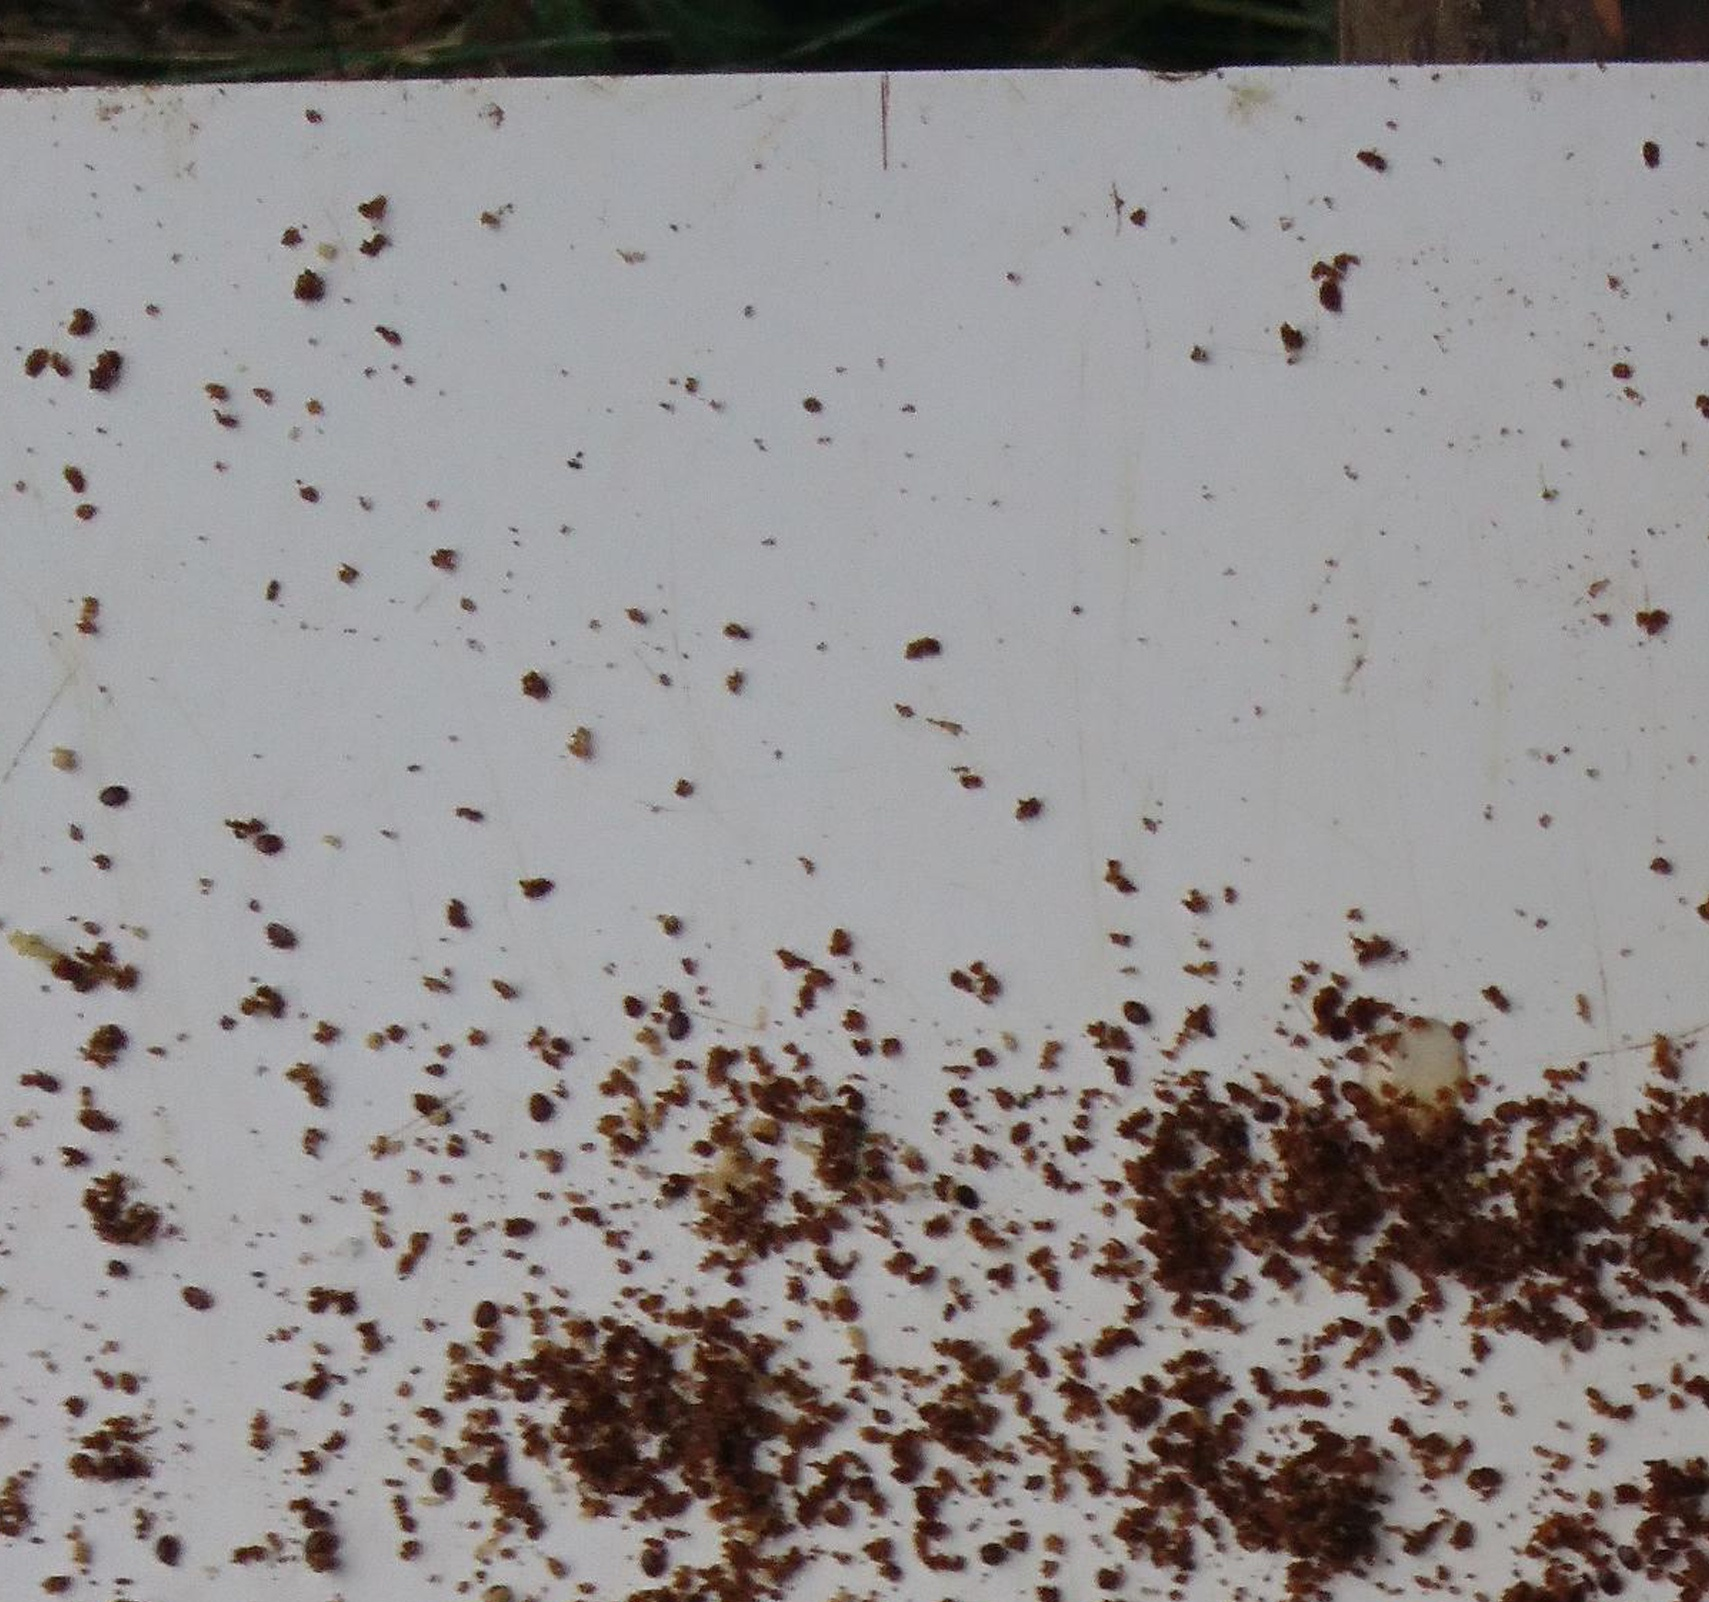Varroa: (995, 1107, 1039, 1150), (592, 1326, 635, 1370), (836, 1465, 879, 1509), (943, 1171, 986, 1214), (815, 1147, 858, 1189), (647, 1165, 691, 1208), (143, 1528, 187, 1570), (419, 1454, 461, 1498), (504, 1367, 548, 1409), (455, 1364, 498, 1406), (1613, 1545, 1655, 1587), (1120, 1390, 1162, 1432), (298, 1521, 340, 1561), (1232, 1533, 1269, 1572), (909, 1482, 949, 1516), (498, 1208, 533, 1244), (1570, 1320, 1604, 1352), (1384, 1311, 1415, 1343), (267, 920, 297, 952), (1120, 997, 1150, 1028), (635, 1549, 666, 1579), (184, 1281, 212, 1311), (527, 1098, 556, 1126), (663, 1015, 690, 1043), (979, 1540, 1006, 1569), (102, 784, 128, 812), (259, 827, 285, 854), (471, 1302, 495, 1328)
